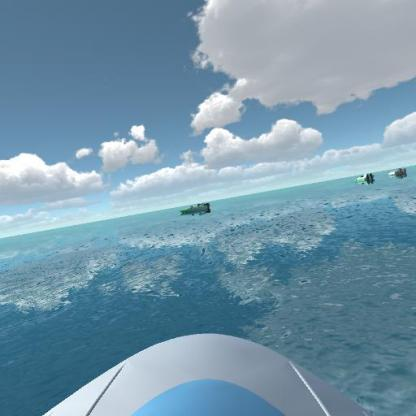usv0: (173, 199, 216, 217), (352, 169, 378, 186)
usv1: (385, 164, 409, 180)
